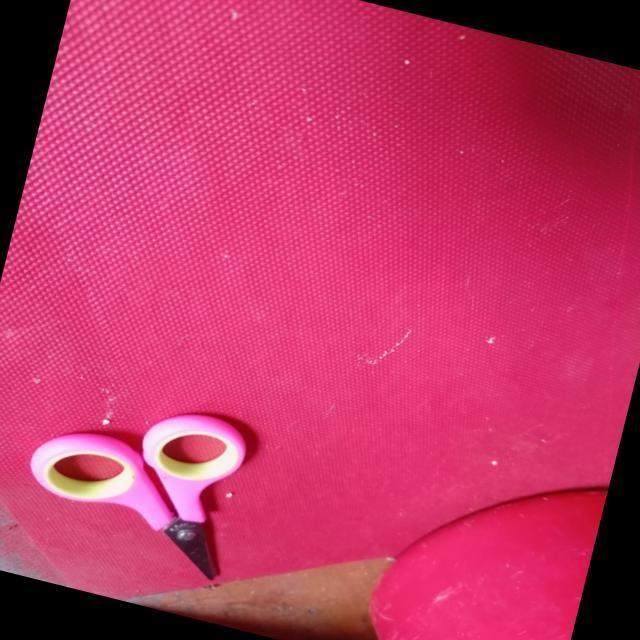scissors: (0, 352, 297, 631)
